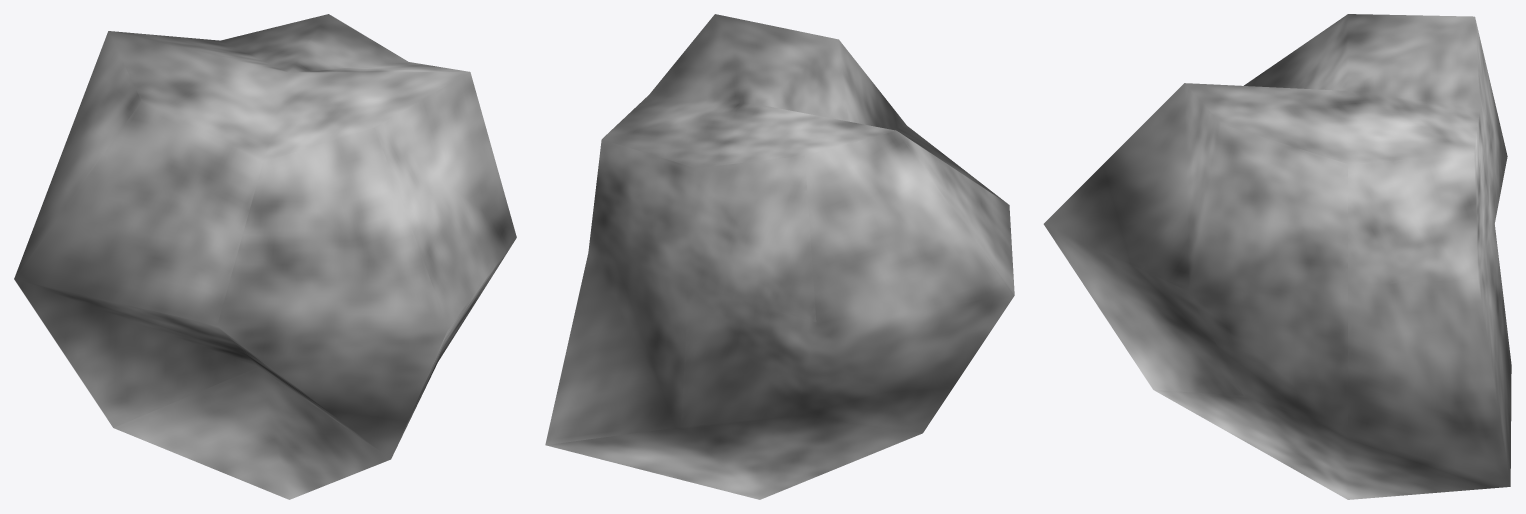
Rendered from asteroid_xs.glb.
The picture shows the model from 3 angles, left to right: view 1: azimuth 30°, elevation 25°; view 2: azimuth 150°, elevation 25°; view 3: azimuth 270°, elevation 25°; orthographic projection. The views are drawn at different scales.
Parts seen in each view (by area): view 1: asteroid 01.009; view 2: asteroid 01.009; view 3: asteroid 01.009.
Boxes of the visible parts, x1,y1,x2,y2 form: asteroid 01.009: (14,14,516,499); asteroid 01.009: (545,14,1014,499); asteroid 01.009: (1043,14,1511,499).
Bounding box in the file's own units: 1.36 × 1.38 × 1.36.
Materials: 1 (1 with a texture image).
